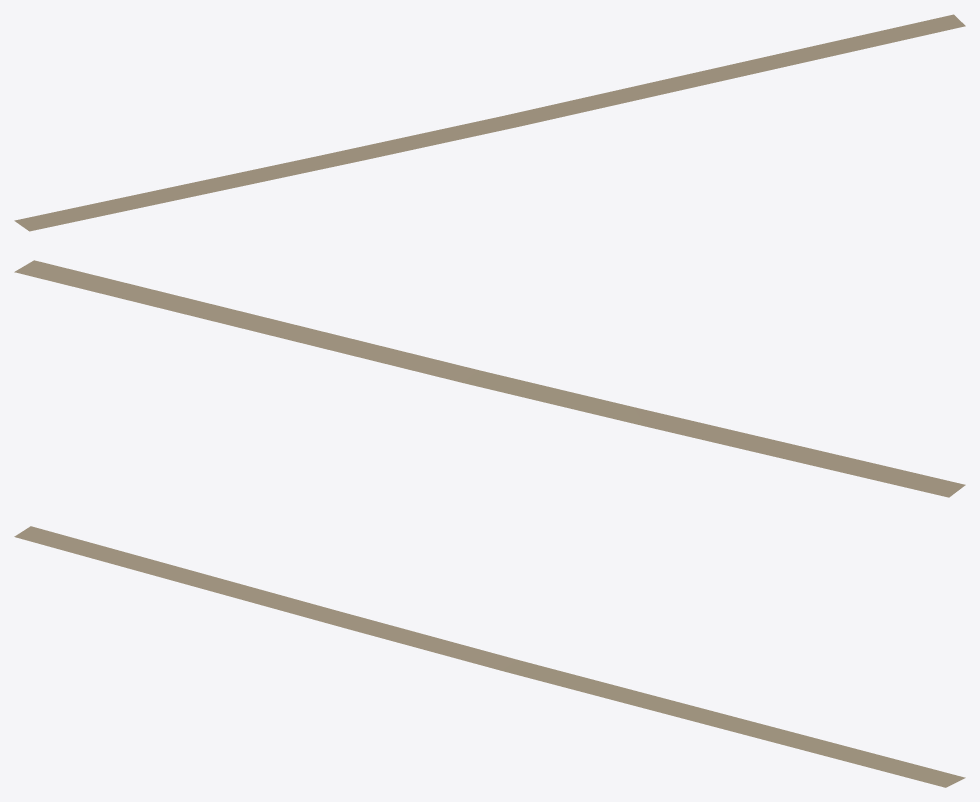
Rendered from farm_11_10_track.glb.
3 renders of one model, top to bottom at view 1: azimuth 30°, elevation 25°; view 2: azimuth 150°, elevation 25°; view 3: azimuth 330°, elevation 25°, orthographic.
Visible parts, largest first — view 1: geometry_0; view 2: geometry_0; view 3: geometry_0.
Boxes of the visible parts, x1,y1,x2,y2 form: geometry_0: (14, 14, 965, 231); geometry_0: (14, 260, 965, 497); geometry_0: (14, 526, 965, 787).
Bounding box in the file's own units: 110 × 1.56 × 5.43.
